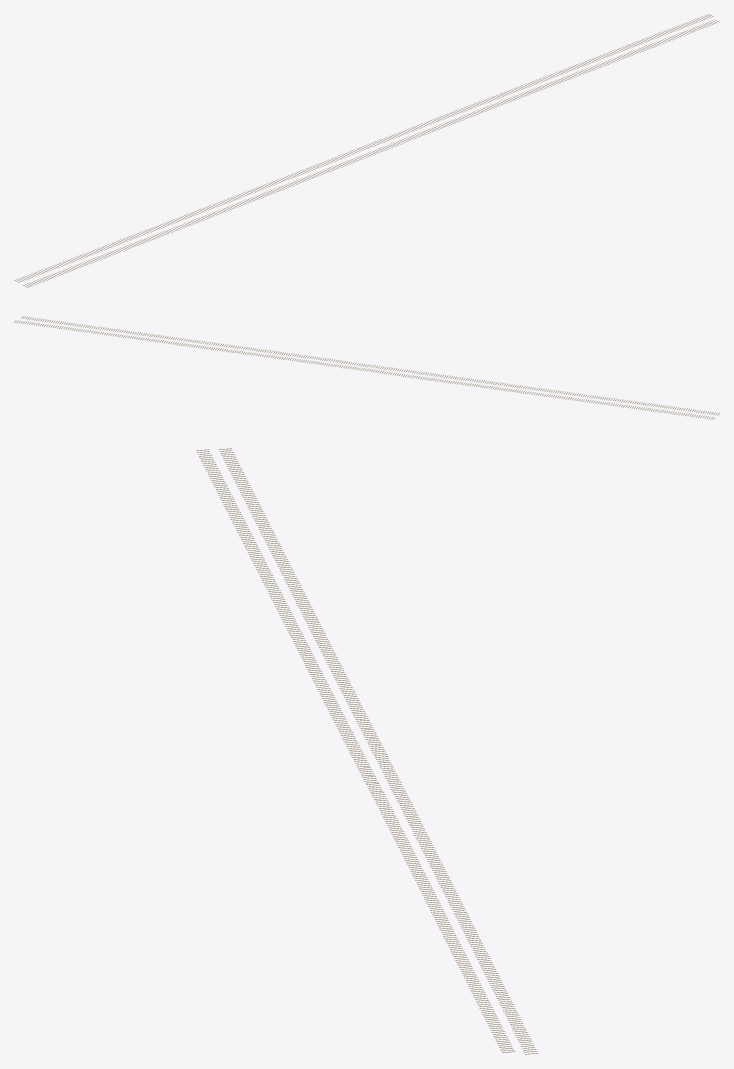
File: c_1622_17836_rail_sleeper.glb
3 views of the same model, one above another, from view 1: azimuth 30°, elevation 25°; view 2: azimuth 150°, elevation 25°; view 3: azimuth 270°, elevation 25° (orthographic). The views are drawn at different scales.
Parts seen in each view (by area): view 1: geometry_0; view 2: geometry_0; view 3: geometry_0.
Part boxes in pixels (left/top/right/bottom): geometry_0: left=14, top=14, right=719, bottom=287; geometry_0: left=14, top=316, right=719, bottom=419; geometry_0: left=196, top=448, right=537, bottom=1054.
Bounding box in the file's own units: 257 × 0.6268 × 60.98.
